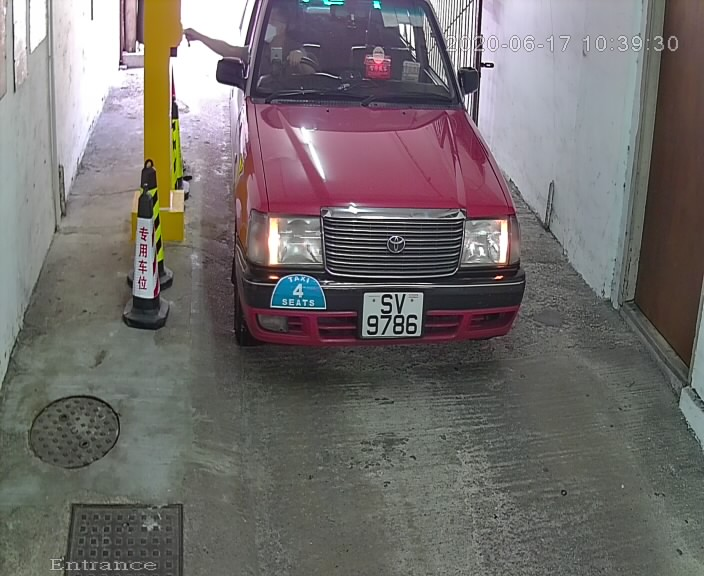taxi: (269, 270, 332, 318)
taxi_mark: (199, 2, 545, 403)
